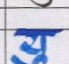u_matra: (12, 54, 49, 63)
